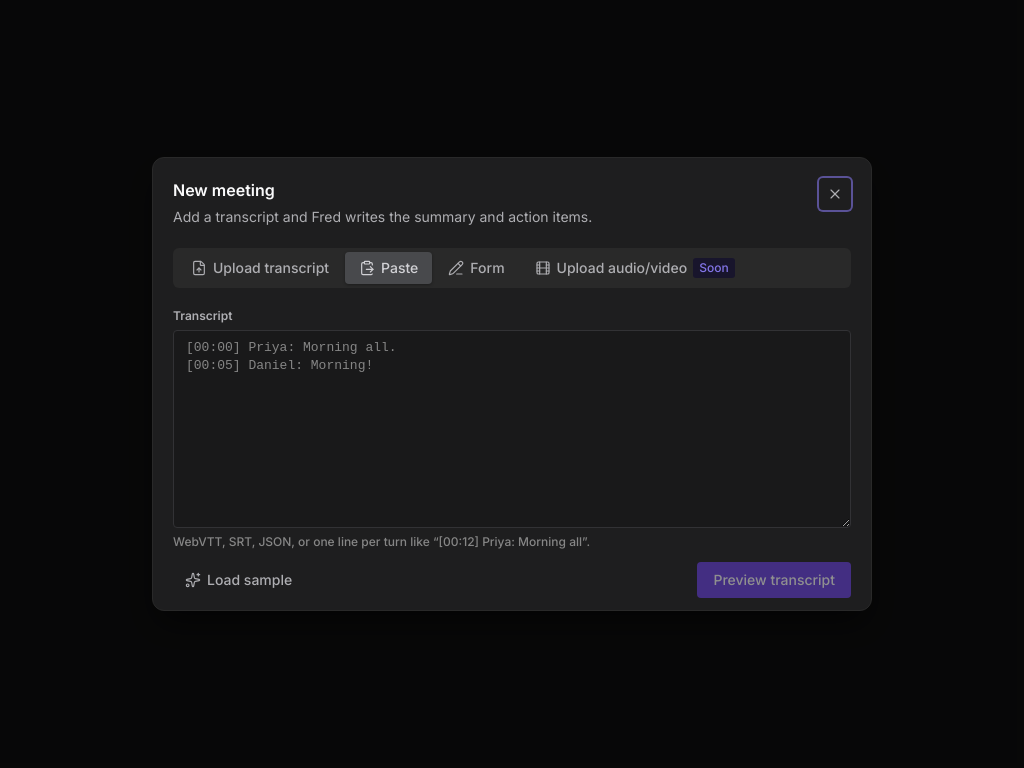
it: CreateMeetingModal › shows a parse error inline and a create error without losing the form
Type "???" into the text box labelled "Transcript" at (512, 429), box [173, 330, 851, 528]
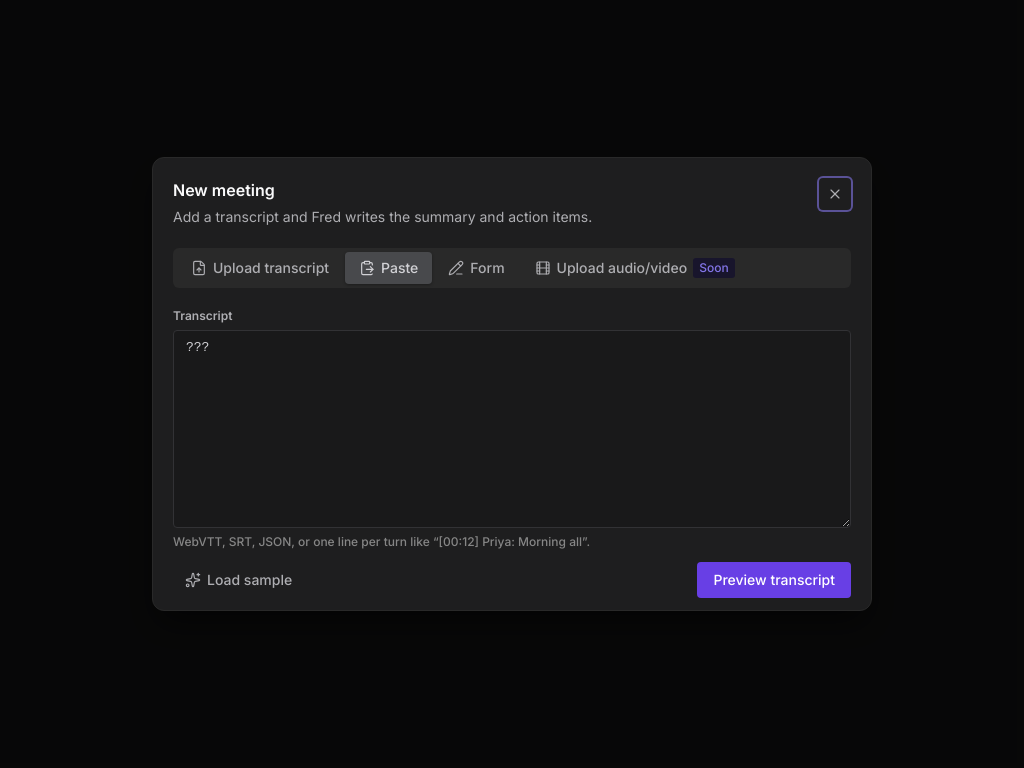
Click the button "Preview transcript" at (774, 580), box [697, 562, 851, 598]
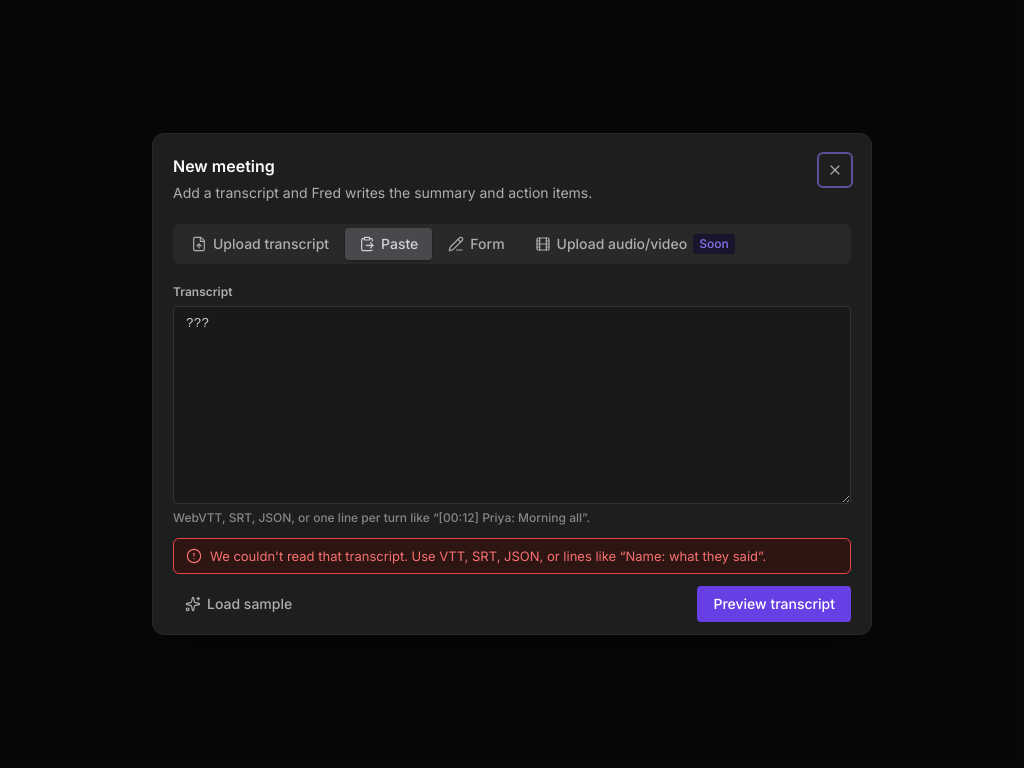
Now the message shows "couldn't read that", box [210, 548, 766, 564]
Click the tab "Form" at (476, 244), box [434, 228, 518, 260]
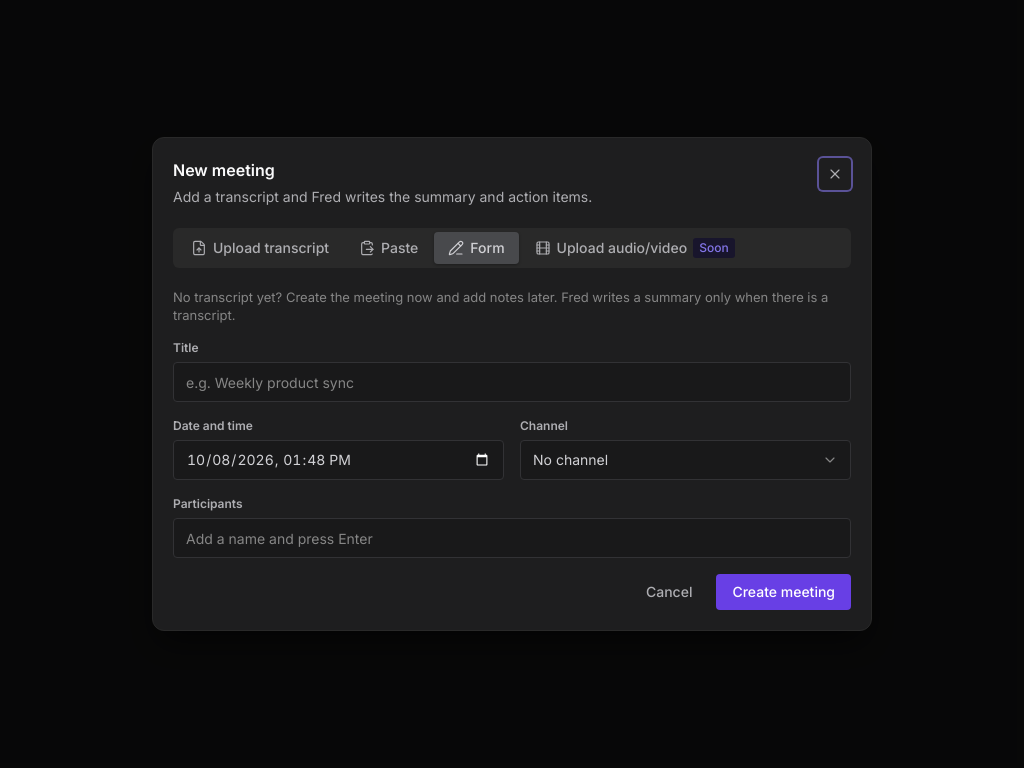
Type "Planning" into the field labelled "Title" at (512, 382), box [173, 362, 851, 402]
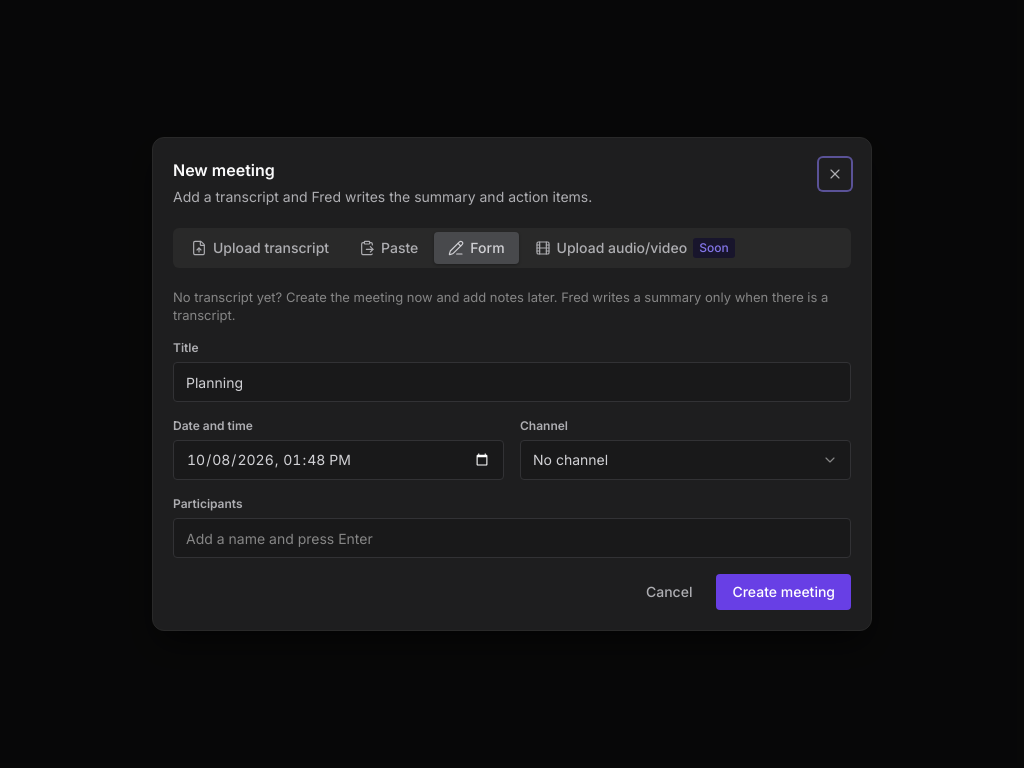
Click the button "Create meeting" at (784, 592), box [716, 574, 851, 610]
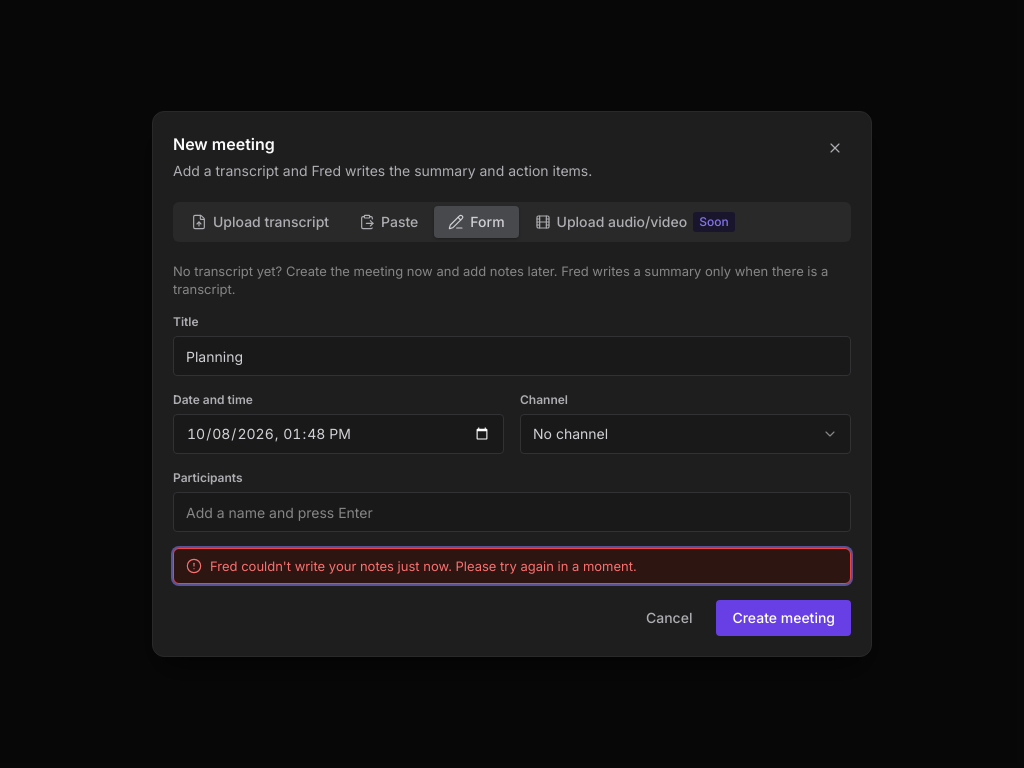
Now the message shows "couldn't write your notes", box [210, 558, 637, 574]
